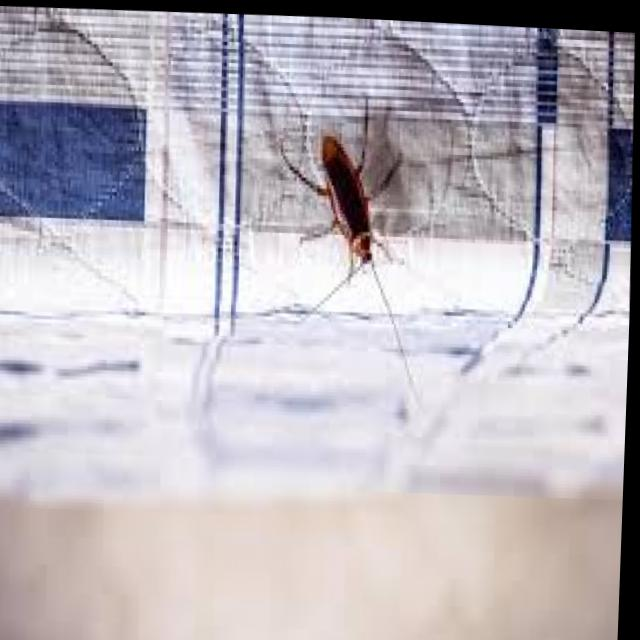Cockroach: (285, 41, 414, 358)
